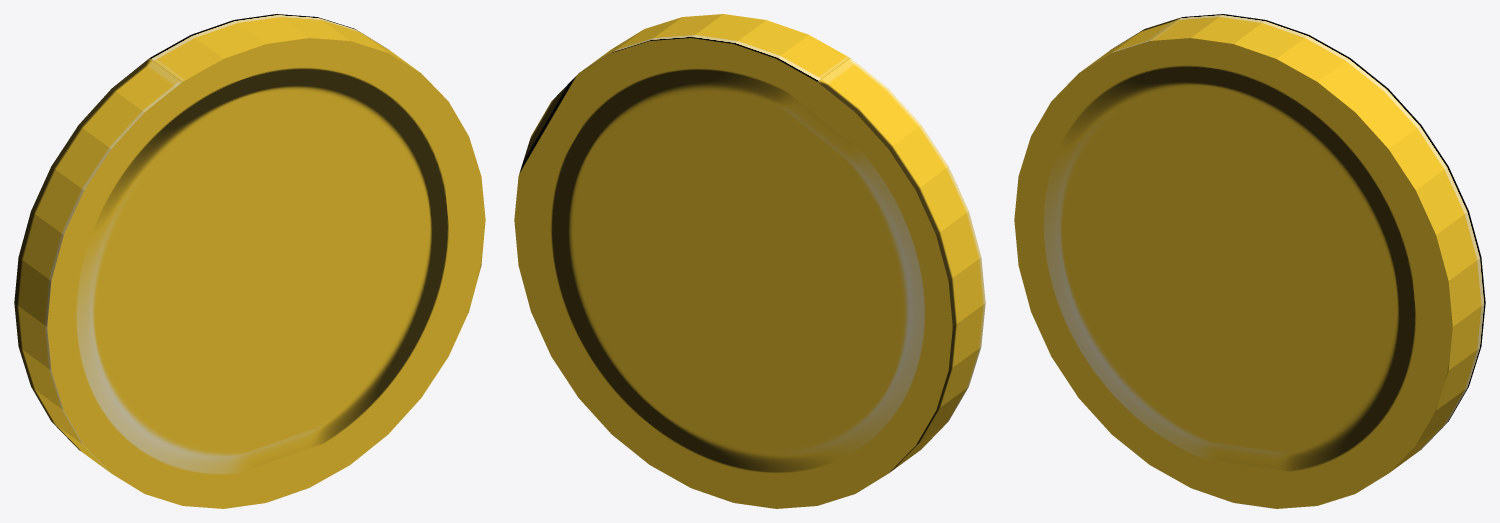
File: coin.obj
3 renders of one model, left to right at view 1: azimuth 30°, elevation 25°; view 2: azimuth 150°, elevation 25°; view 3: azimuth 330°, elevation 25°, orthographic.
Visible parts, largest first — view 1: Cylinder; view 2: Cylinder; view 3: Cylinder.
Part boxes in pixels (x1=…): Cylinder: x1=14, y1=14, x2=485, y2=508; Cylinder: x1=514, y1=14, x2=985, y2=508; Cylinder: x1=1014, y1=14, x2=1485, y2=508.
Size of the model in its own units: 2 by 2 by 0.2593.
Materials: 1 (1 with a texture image).
